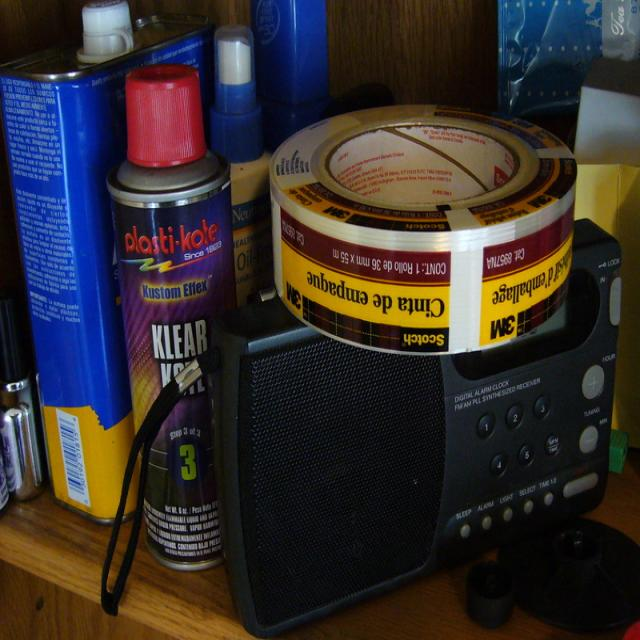container bottle: (108, 64, 235, 428), (209, 26, 272, 305)
